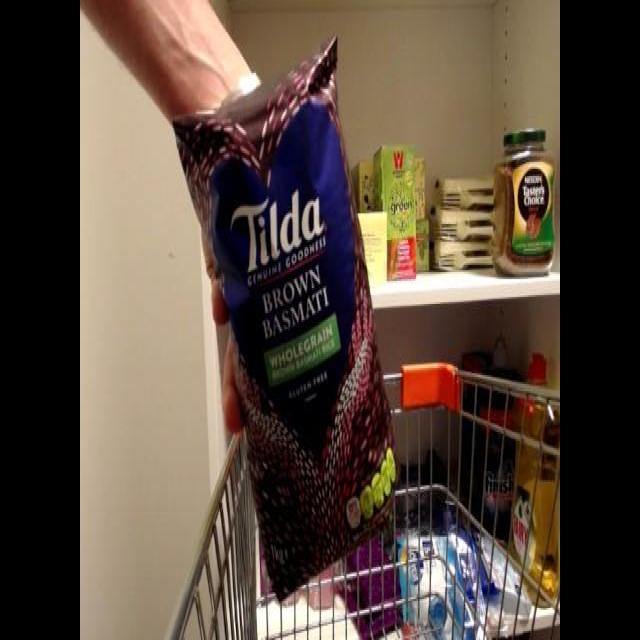Tida: (169, 29, 414, 606)
